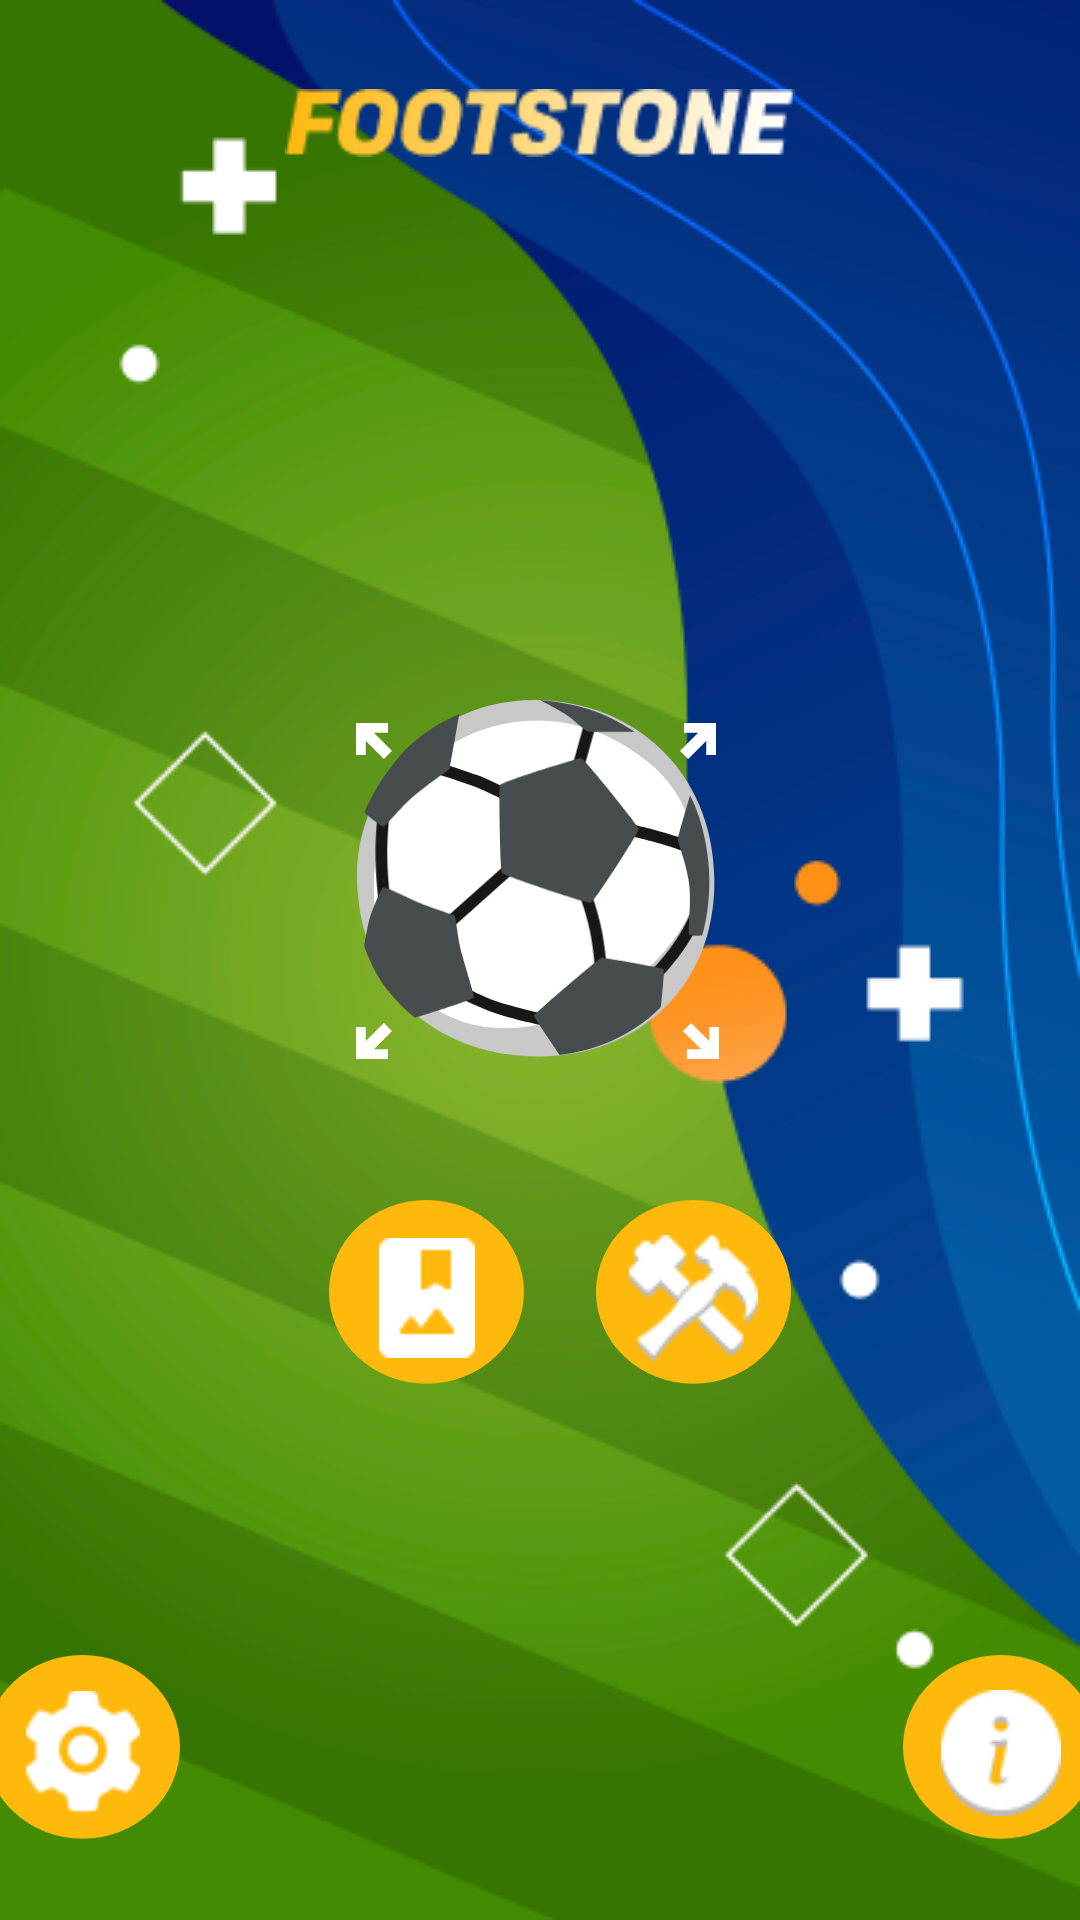

Screen size 1080*1920. Icon name, then its center in pixels as (x,y):
elipsebuttonimage: (426,1292)
info: (991,1747)
settings: (90,1747)
